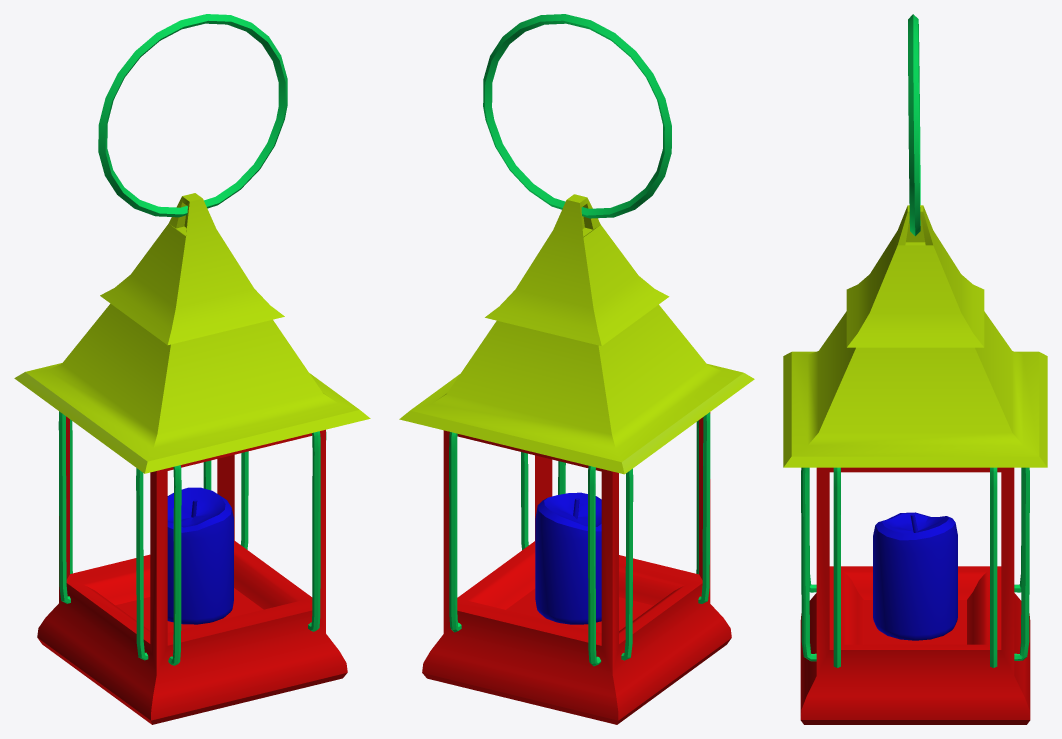
File: SM_lantern.fbx
3 renders of one model, left to right at view 1: azimuth 30°, elevation 25°; view 2: azimuth 150°, elevation 25°; view 3: azimuth 270°, elevation 25°, orthographic.
Parts seen in each view (by area): view 1: Cube.004; view 2: Cube.004; view 3: Cube.004.
Part boxes in pixels (x1=…): Cube.004: x1=14, y1=14, x2=370, y2=724; Cube.004: x1=399, y1=14, x2=754, y2=724; Cube.004: x1=783, y1=14, x2=1047, y2=724.
Bounding box in the file's own units: 31.99 × 87.2 × 31.99.
